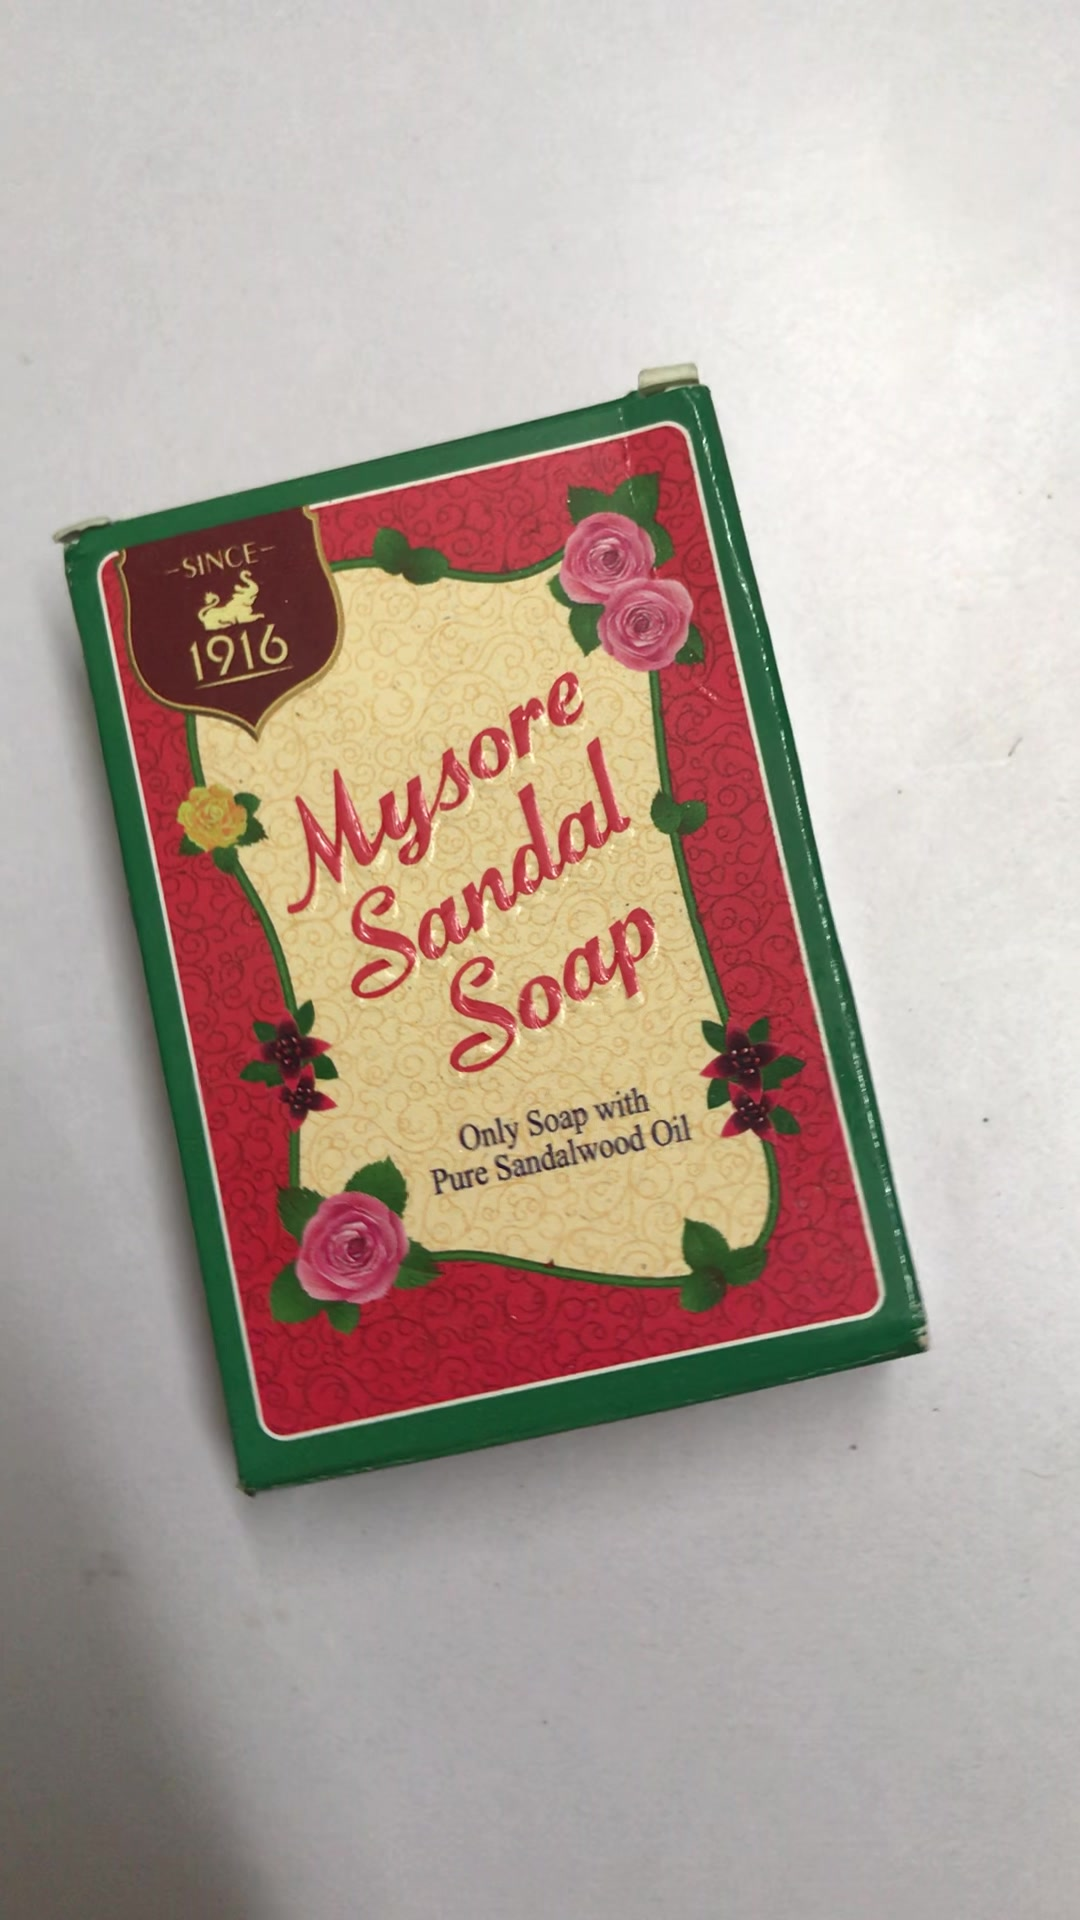mysore sandal soap: (59, 369, 936, 1494)
